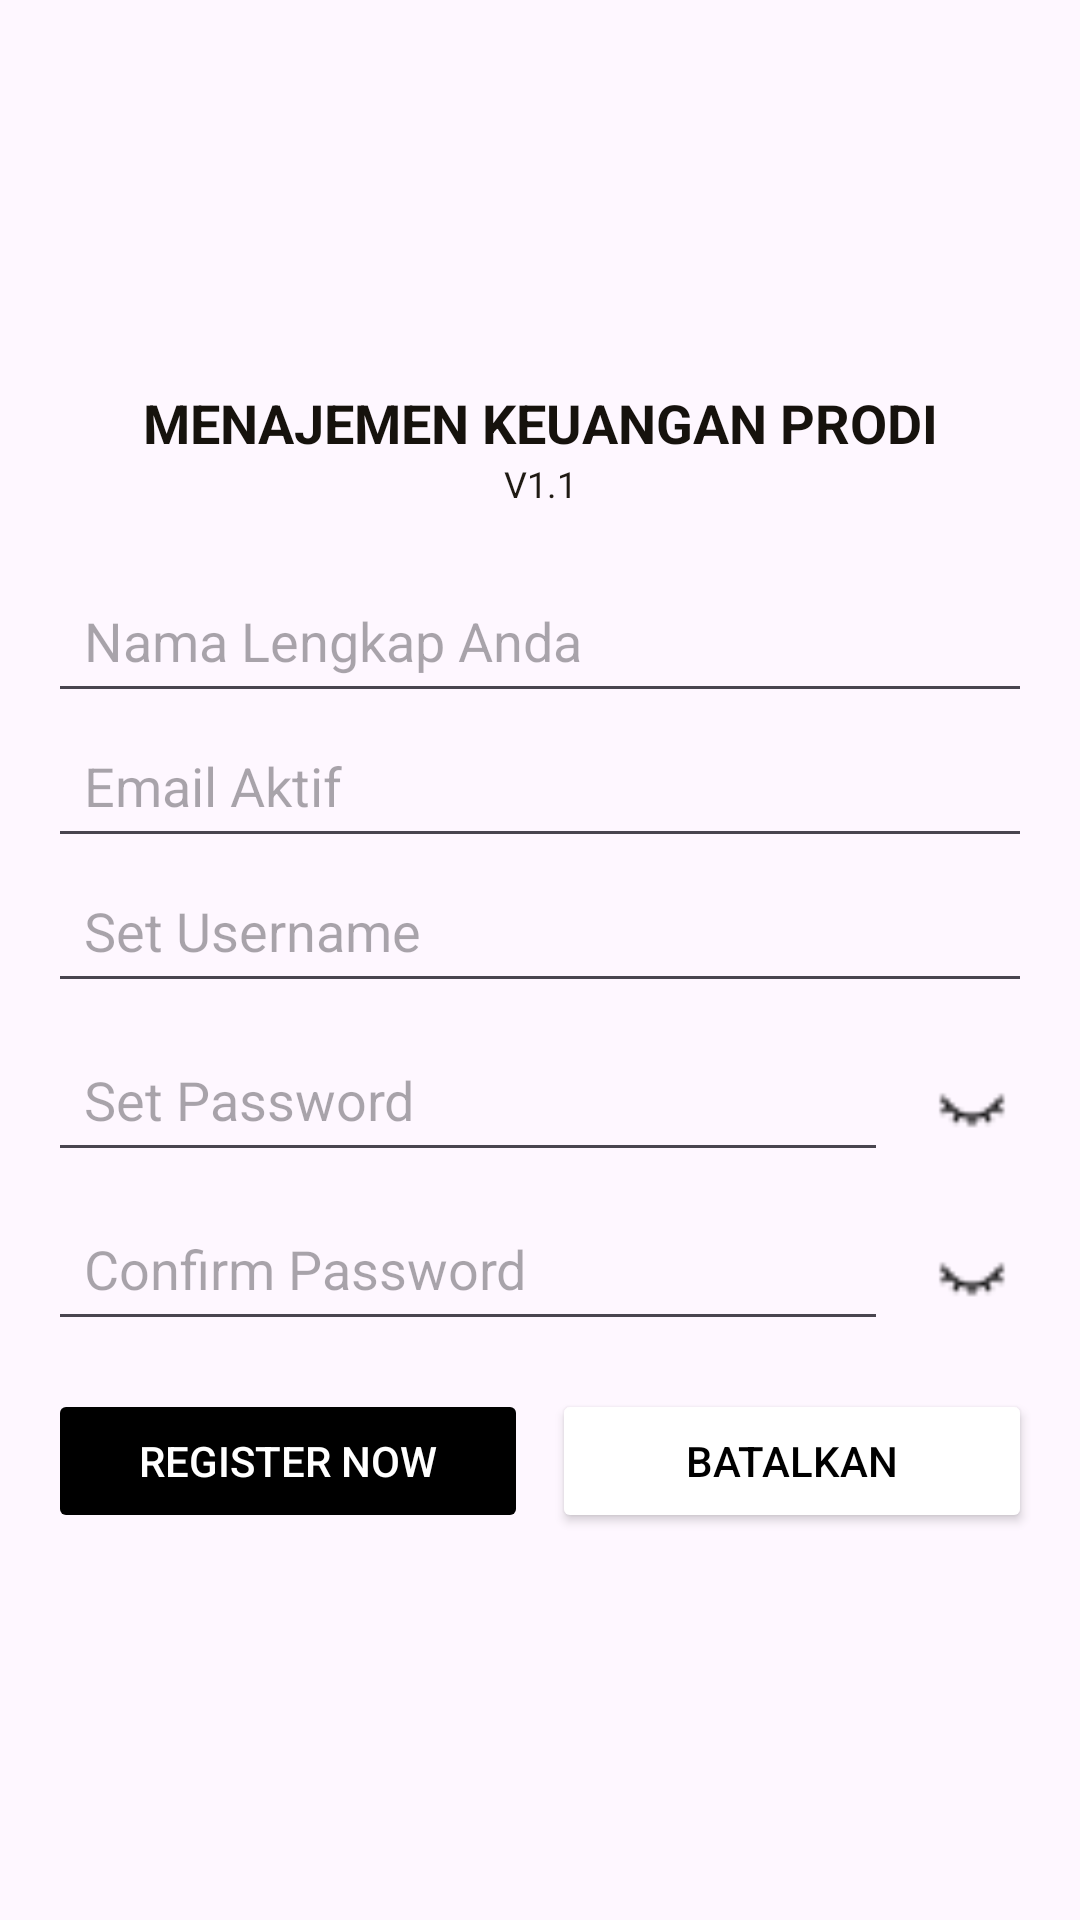

Screen size 1080px x 1920px. Icon name, then its center in pixels as point (x, y):
Toggle Password Visibility: point (972, 1110)
